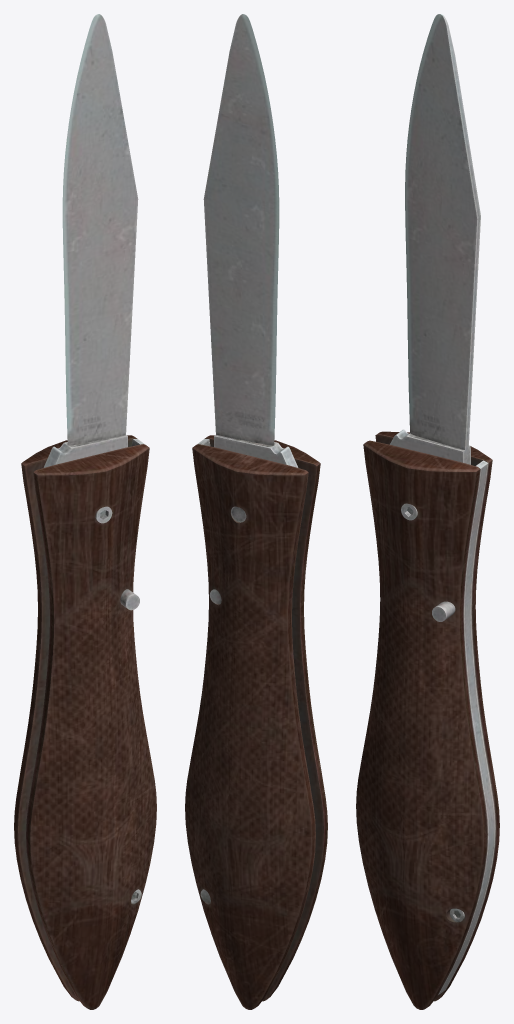
Rendered from knife.glb.
The picture shows the model from 3 angles, left to right: view 1: azimuth 30°, elevation 25°; view 2: azimuth 150°, elevation 25°; view 3: azimuth 330°, elevation 25°; orthographic projection.
Visible parts, largest first — view 1: fish_knife_handle, fish_knife_blade; view 2: fish_knife_handle, fish_knife_blade; view 3: fish_knife_handle, fish_knife_blade.
Part boxes in pixels (x1=…): fish_knife_handle: x1=14, y1=435, x2=156, y2=1009; fish_knife_blade: x1=43, y1=14, x2=138, y2=467; fish_knife_handle: x1=185, y1=435, x2=327, y2=1009; fish_knife_blade: x1=203, y1=14, x2=298, y2=467; fish_knife_handle: x1=356, y1=431, x2=499, y2=1009; fish_knife_blade: x1=390, y1=14, x2=480, y2=464.
Bounding box in the file's own units: 0.029 × 0.2157 × 0.0162.
1 material, 1 textured.
